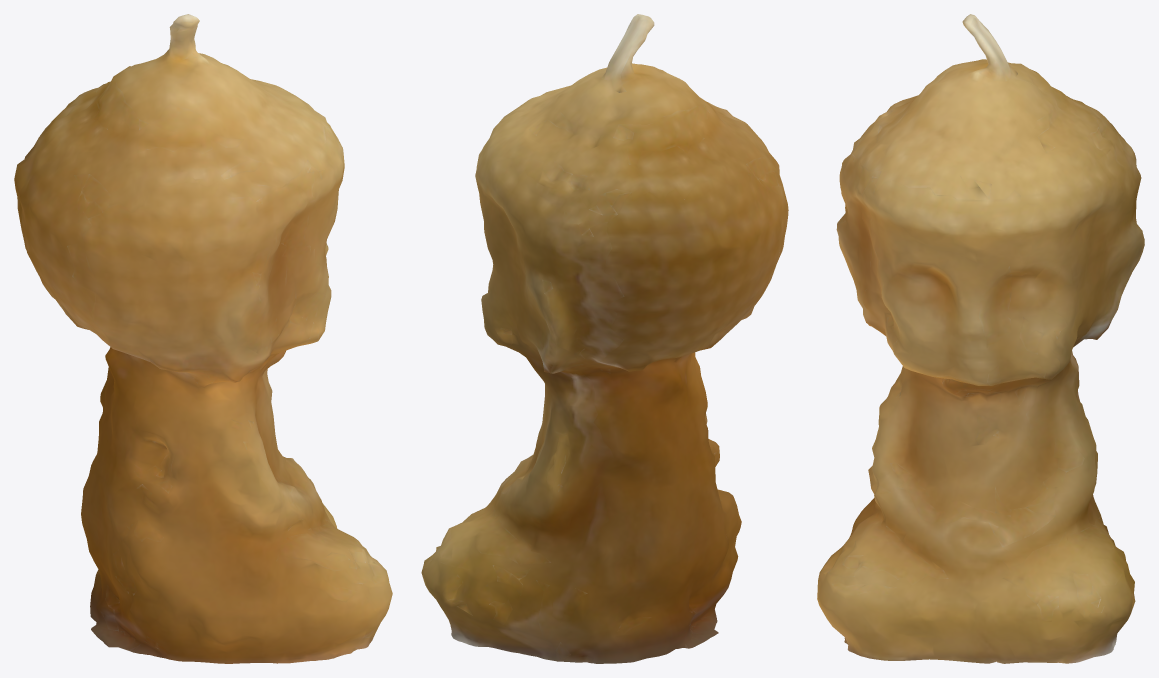
The model's file is budha.glb.
3 views of the same model, side by side, from view 1: azimuth 30°, elevation 25°; view 2: azimuth 150°, elevation 25°; view 3: azimuth 270°, elevation 25° (orthographic). The views are drawn at different scales.
Parts seen in each view (by area): view 1: model_tex_u1_v1_0; view 2: model_tex_u1_v1_0; view 3: model_tex_u1_v1_0.
Part boxes in pixels (<box>): model_tex_u1_v1_0: <box>14,14,392,663</box>; model_tex_u1_v1_0: <box>421,14,788,663</box>; model_tex_u1_v1_0: <box>817,14,1144,663</box>.
Size of the model in its own units: 0.2134 by 0.4143 by 0.2118.
Materials: 1 (1 with a texture image).
